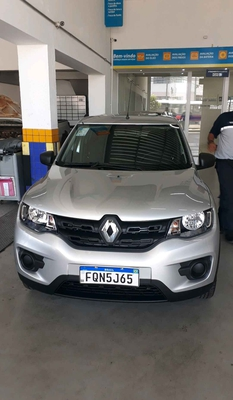Frontal Veiculo: (12, 118, 219, 302)
